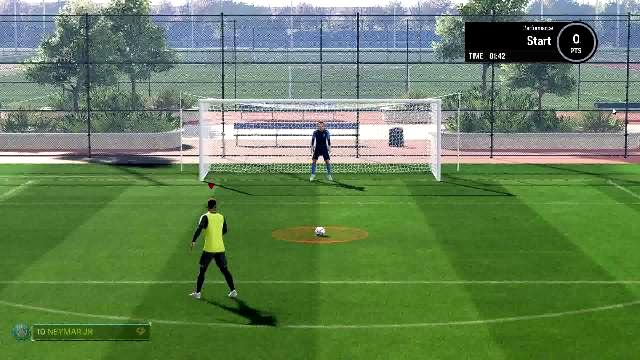bottom-left: (202, 144, 278, 182)
bottom-right: (358, 144, 438, 182)
center-down: (281, 144, 359, 180)
center-up: (280, 102, 360, 144)
circle: (272, 227, 370, 245)
football: (314, 229, 326, 238)
goalkeeper: (306, 118, 338, 180)
player: (193, 196, 244, 304)
top-left: (202, 102, 278, 144)
top-right: (359, 103, 437, 143)
